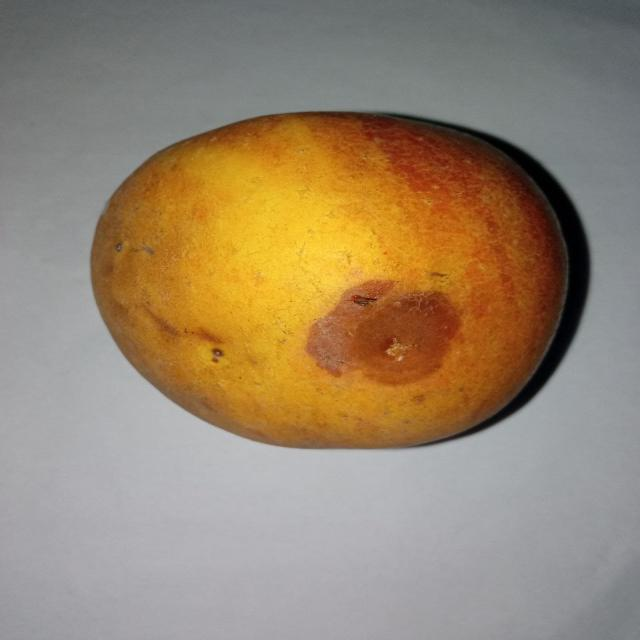rotten_apple: (93, 109, 568, 449)
